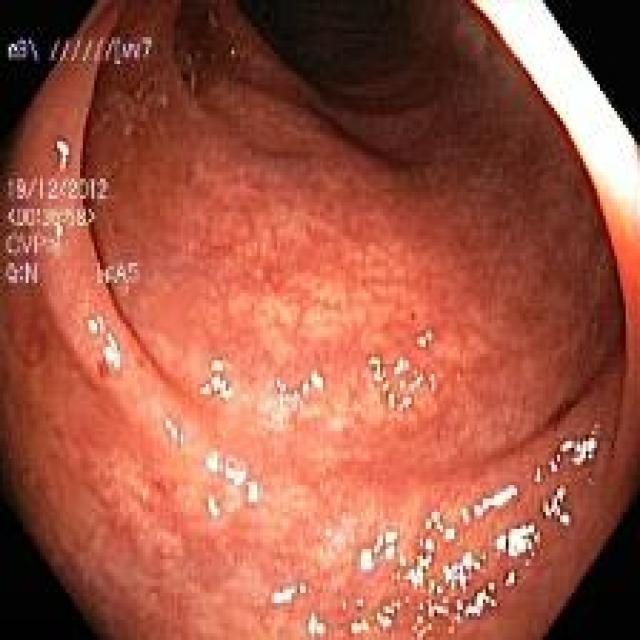ulcerative-colitis-grade-0-1: (96, 107, 541, 444), (232, 424, 603, 640), (0, 377, 295, 640)
